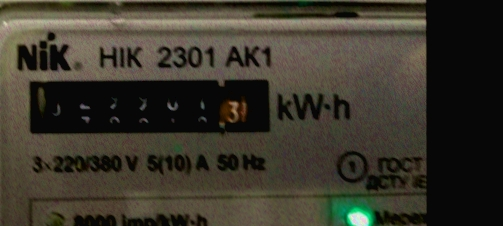0: (45, 89, 63, 116), (164, 83, 180, 112)
1: (195, 82, 208, 110)
2: (75, 83, 93, 110)
3: (224, 97, 241, 123)
9: (105, 83, 121, 110), (136, 84, 149, 111)
screen: (20, 69, 280, 142)
